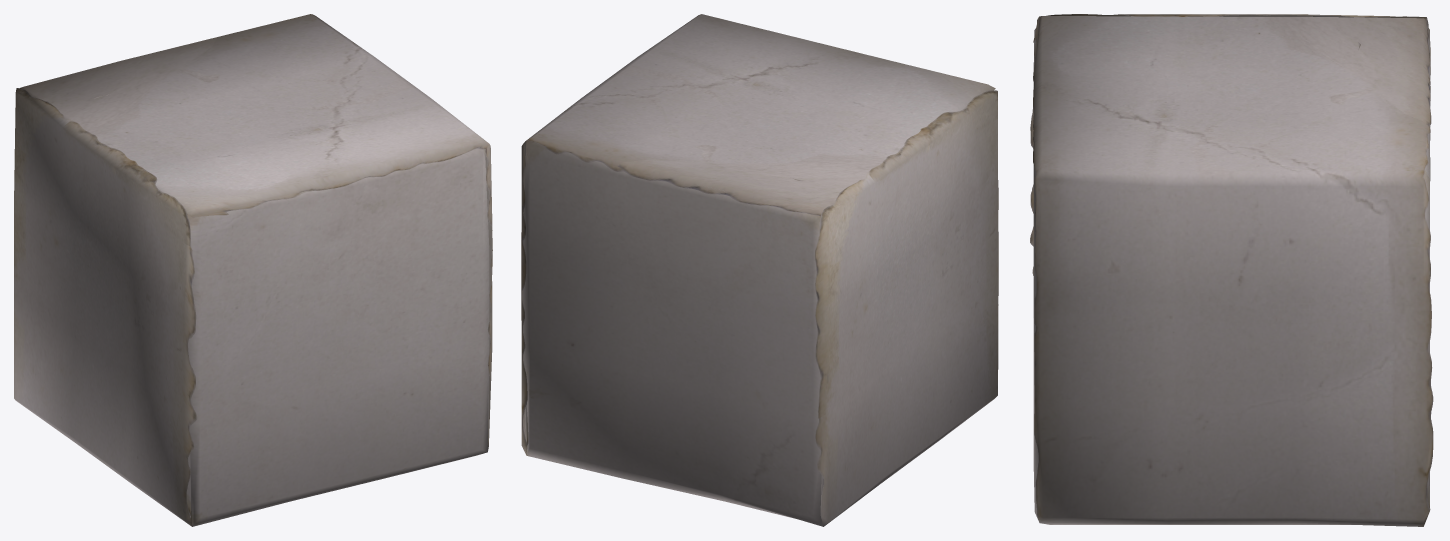
The model's file is PaperCube.fbx.
3 renders of one model, left to right at view 1: azimuth 30°, elevation 25°; view 2: azimuth 150°, elevation 25°; view 3: azimuth 270°, elevation 25°, orthographic. The views are drawn at different scales.
Parts seen in each view (by area): view 1: Paper; view 2: Paper; view 3: Paper.
Boxes of the visible parts, x1,y1,x2,y2 form: Paper: [14, 14, 492, 526]; Paper: [521, 14, 998, 526]; Paper: [1030, 14, 1433, 526].
Size of the model in its own units: 103 by 102 by 106.
1 material, 1 textured.
